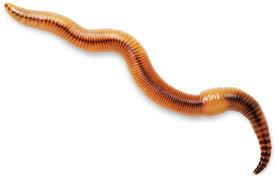insect: (2, 0, 274, 179)
